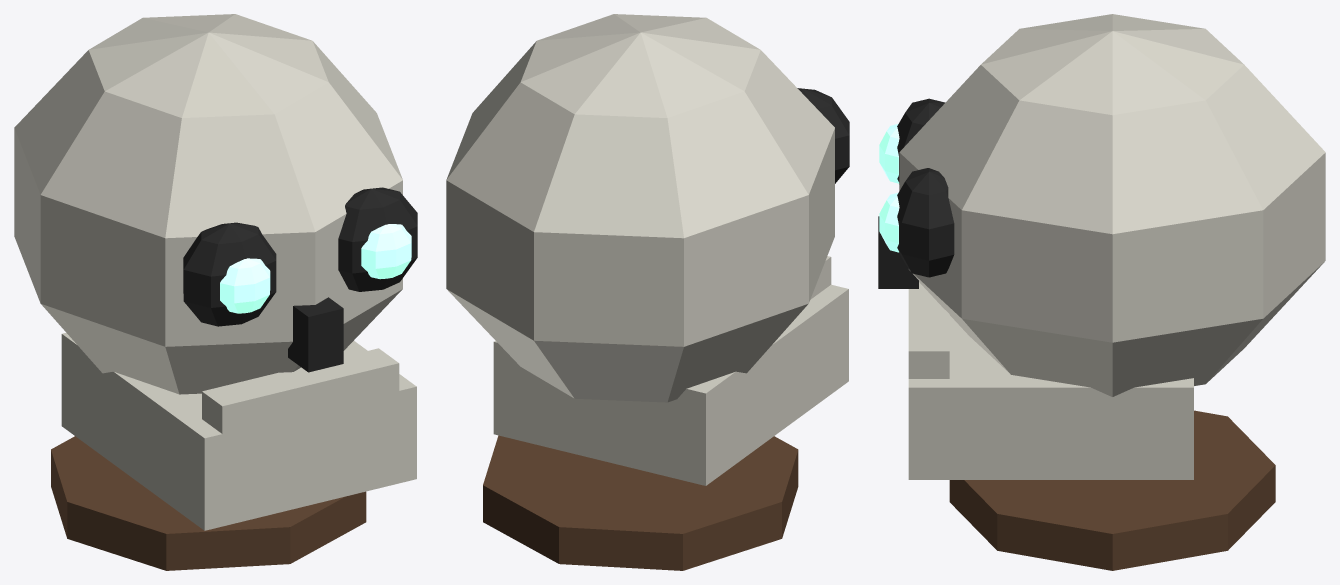
File: std_skull.glb
The picture shows the model from 3 angles, left to right: view 1: azimuth 30°, elevation 25°; view 2: azimuth 150°, elevation 25°; view 3: azimuth 270°, elevation 25°; orthographic projection.
Parts seen in each view (by area): view 1: std_skull; view 2: std_skull; view 3: std_skull.
Part boxes in pixels (box(x1,y1,x2,y2)): std_skull: box(14, 14, 417, 570); std_skull: box(446, 14, 849, 570); std_skull: box(878, 14, 1325, 570).
Size of the model in its own units: 0.1902 by 0.255 by 0.2196.
